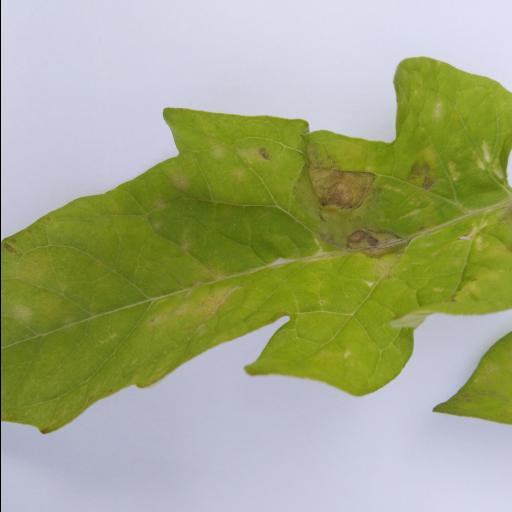disease_tomato: (0, 54, 512, 443)
